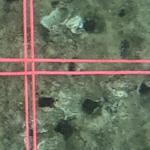dead: (1, 15, 143, 148)
